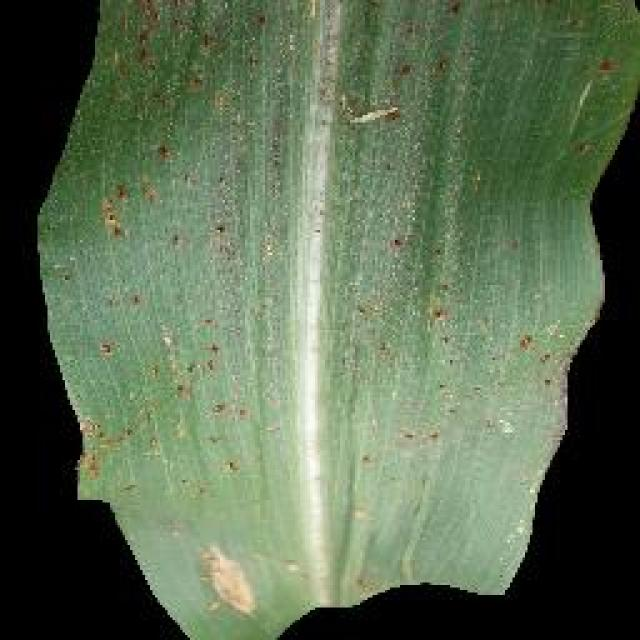Corn Common Rust: (142, 41, 525, 616)
